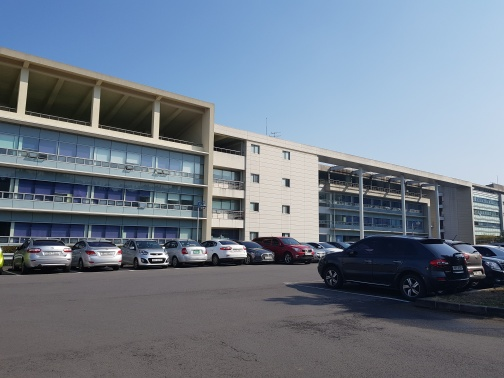Engineering College Building 4: (4, 45, 429, 236), (1, 58, 210, 236), (214, 126, 433, 236)
